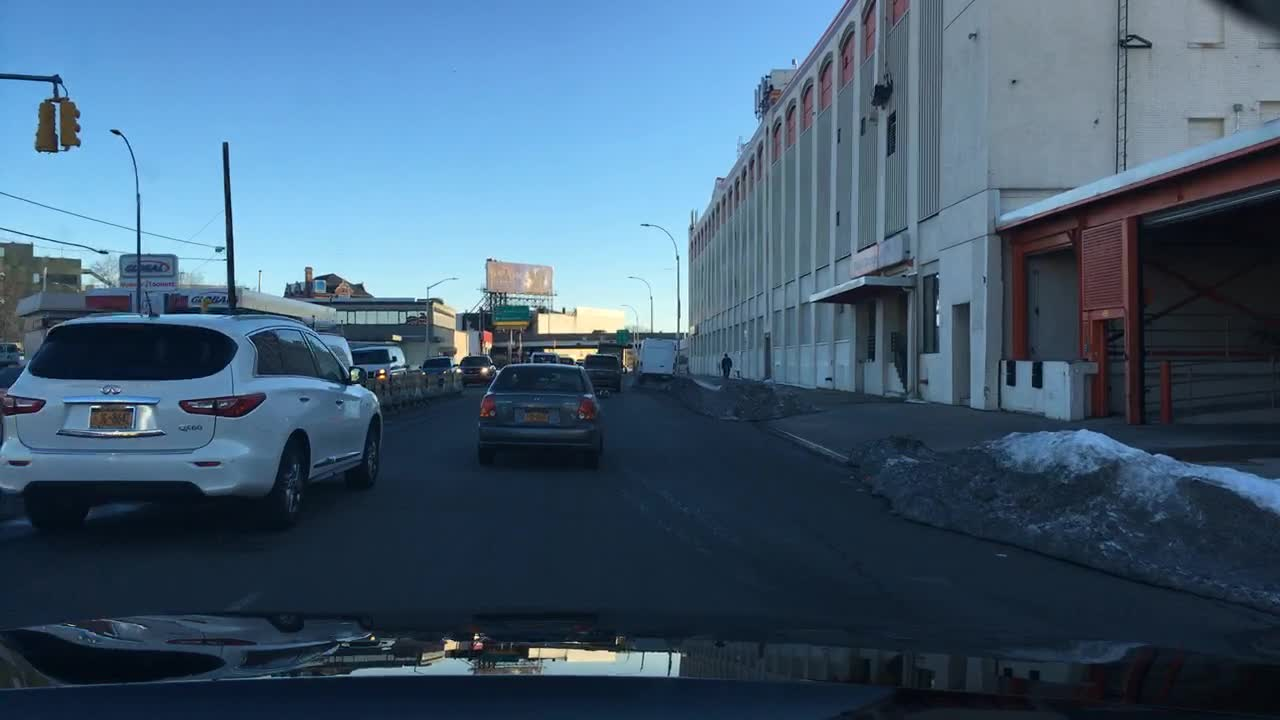car: (0, 290, 382, 531), (474, 362, 605, 466), (352, 344, 408, 377), (583, 353, 626, 390), (320, 333, 356, 373), (457, 353, 496, 385), (417, 355, 461, 373), (1, 342, 22, 368), (530, 353, 555, 363), (557, 353, 579, 363)
person: (720, 350, 732, 379)
traffic light: (33, 99, 55, 152), (57, 100, 80, 146)
traffic sign: (492, 305, 530, 327), (618, 328, 630, 346)
